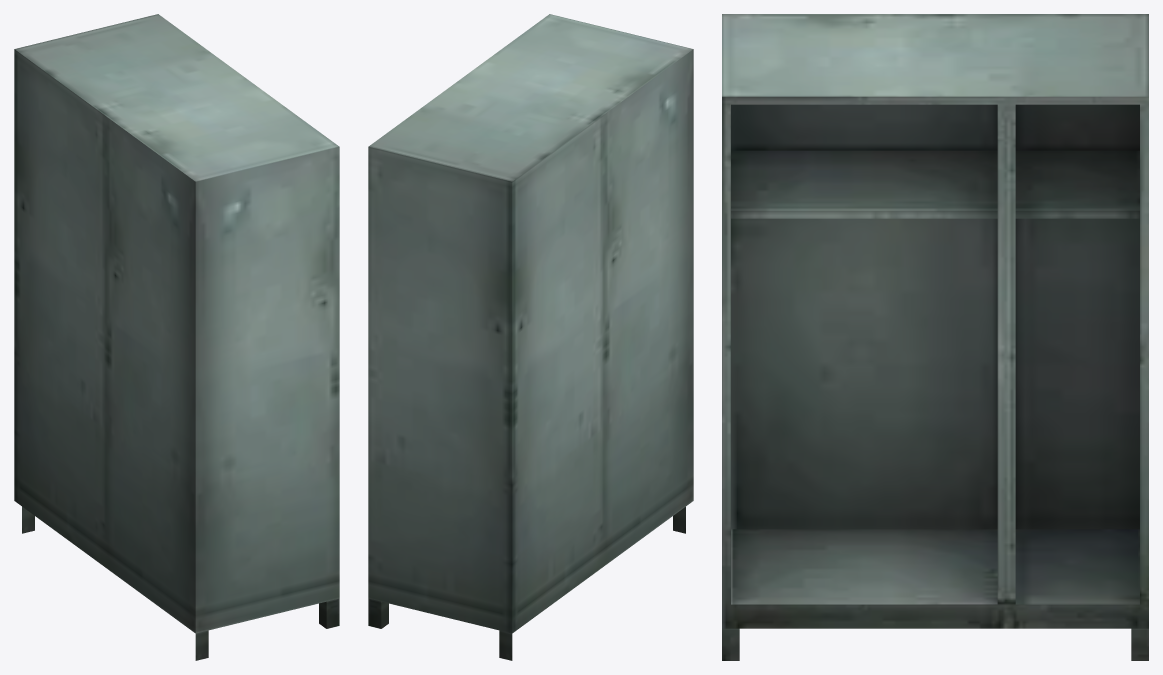
Rendered from lockers.glb.
3 views of the same model, side by side, from view 1: azimuth 30°, elevation 25°; view 2: azimuth 150°, elevation 25°; view 3: azimuth 270°, elevation 25° (orthographic). The views are drawn at different scales.
Visible parts, largest first — view 1: 0_lockers_sheet; view 2: 0_lockers_sheet; view 3: 0_lockers_sheet.
Boxes of the visible parts, x1,y1,x2,y2 form: 0_lockers_sheet: (14,14,339,660); 0_lockers_sheet: (368,14,693,660); 0_lockers_sheet: (722,14,1148,660).
Size of the model in its own units: 0.5588 by 1.78 by 1.22.
Materials: 1 (1 with a texture image).
